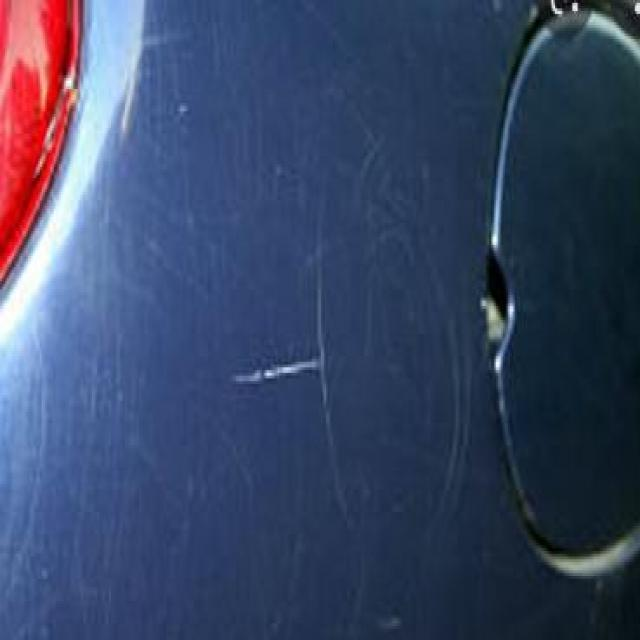scratch: (224, 344, 328, 392)
